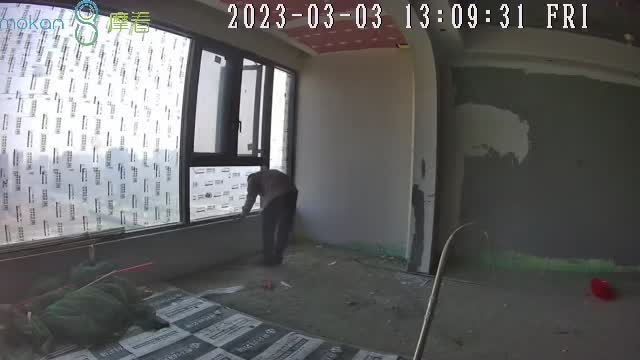people: (241, 169, 298, 266)
window: (1, 1, 291, 255)
